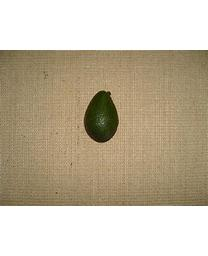avocado: (83, 89, 120, 143)
